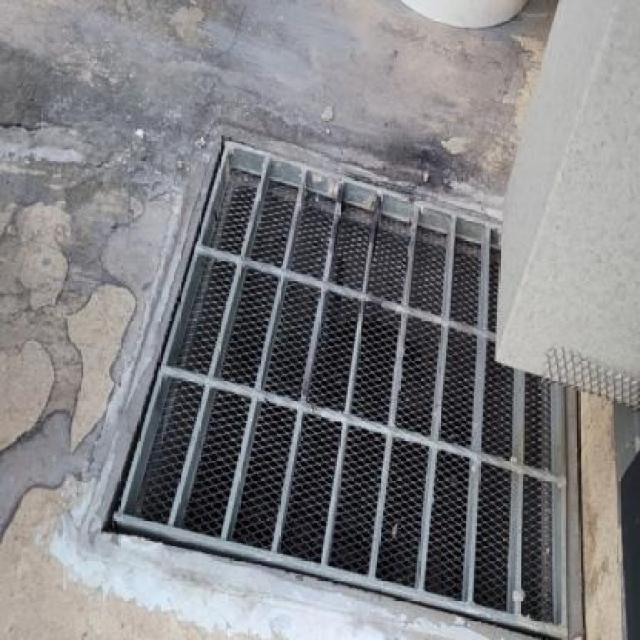Drain Hole: (179, 99, 619, 640)
